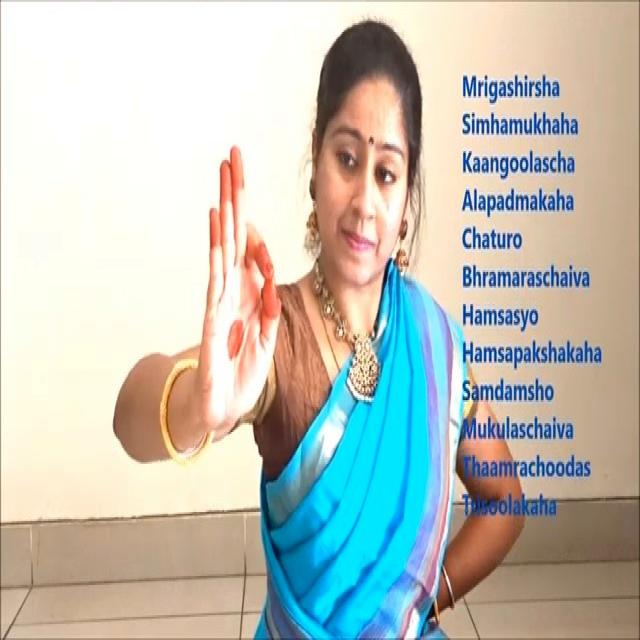Hamsasya: (194, 120, 284, 448)
lady: (293, 20, 435, 302)
text: (459, 68, 609, 528)
